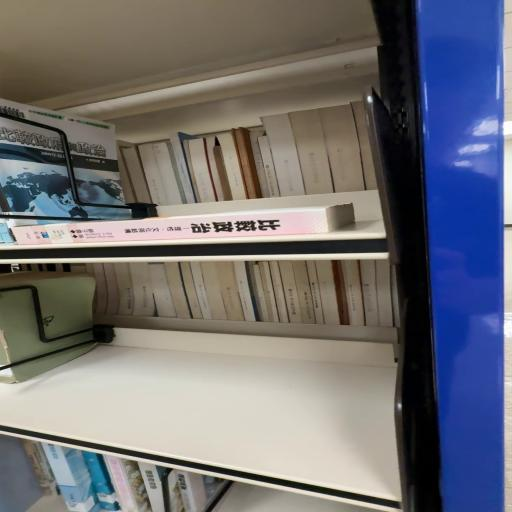flat: (13, 204, 355, 246)
